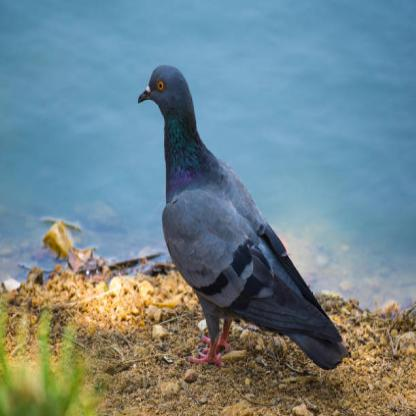Flying Rat: (137, 63, 362, 377)
